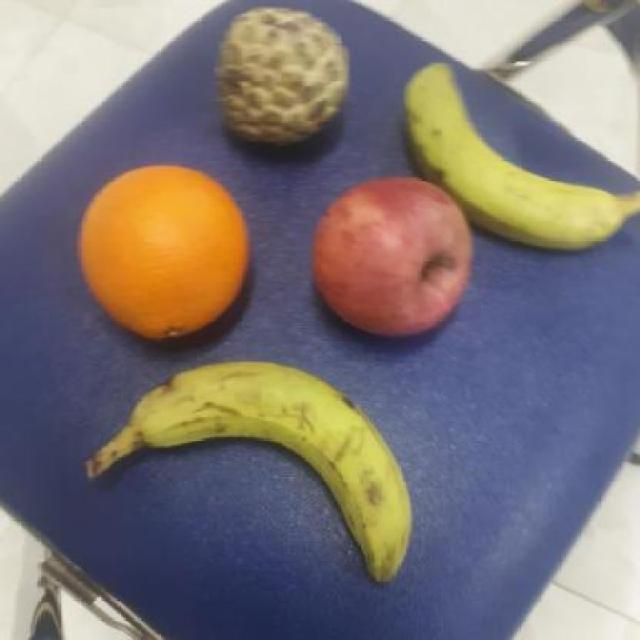apple: (307, 172, 479, 340)
banana: (122, 356, 424, 581), (397, 51, 625, 254)
oren: (72, 161, 252, 344)
sugar apple: (215, 1, 356, 147)
